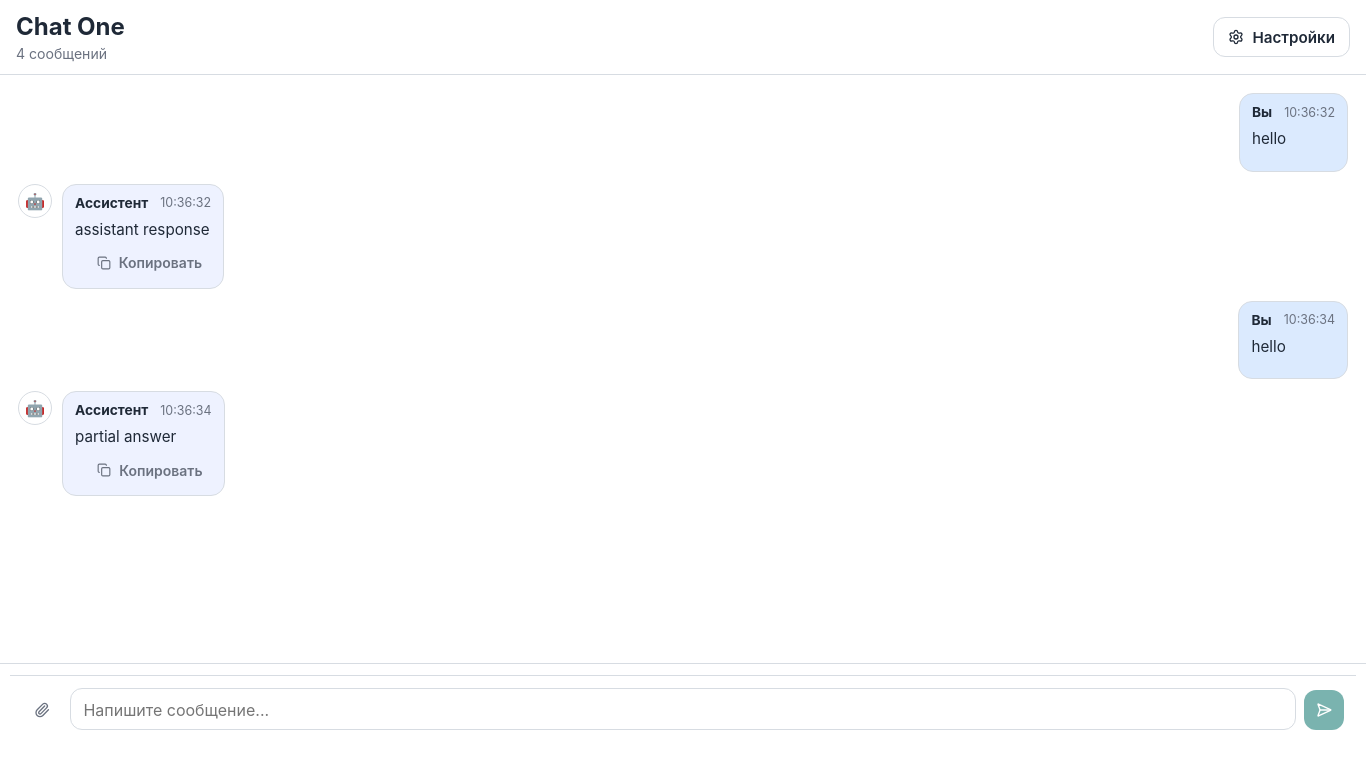
Test: ChatWindow › clears error and succeeds on retry via re-send
In the text box with placeholder "Напишите сообщение...": {"x": 683, "y": 709} [70, 688, 1296, 730], type "first try"
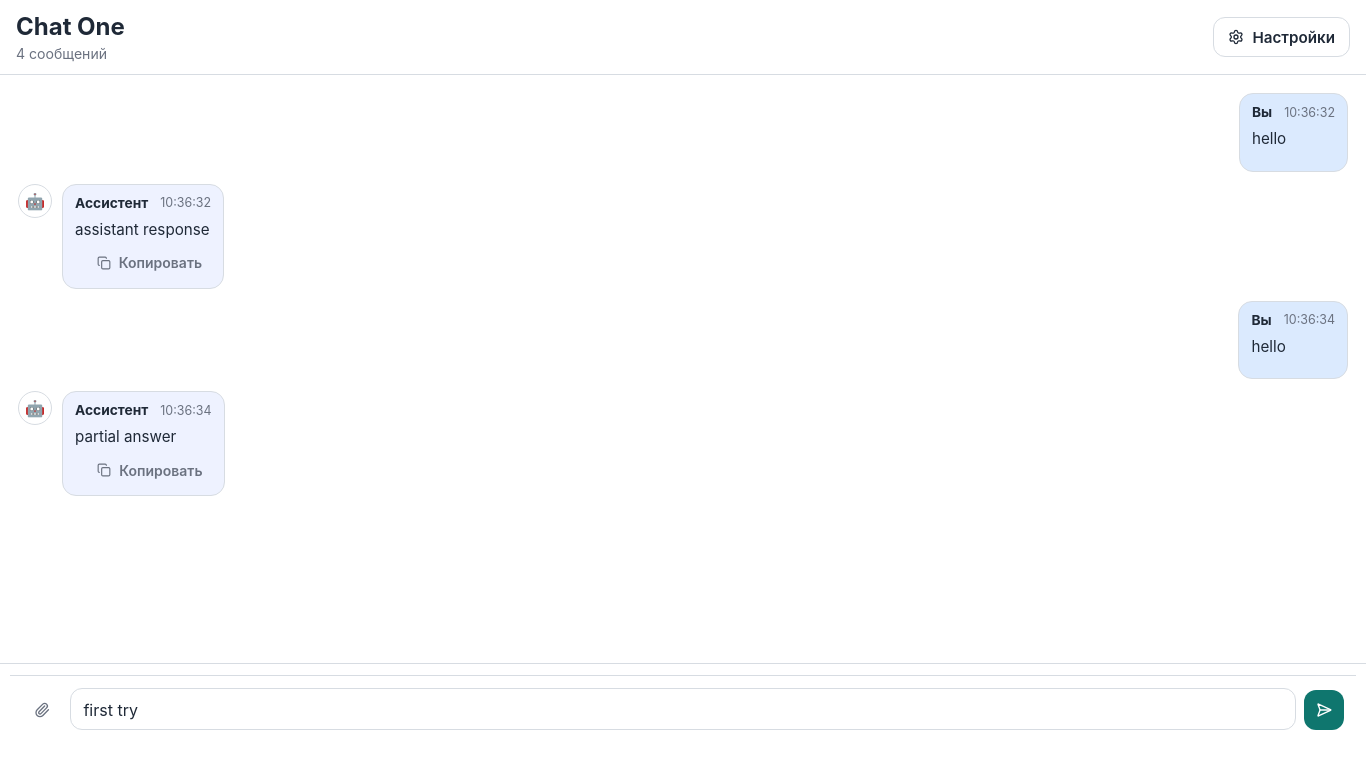
Submit the form with placeholder "Напишите сообщение...", box [10, 675, 1356, 758]
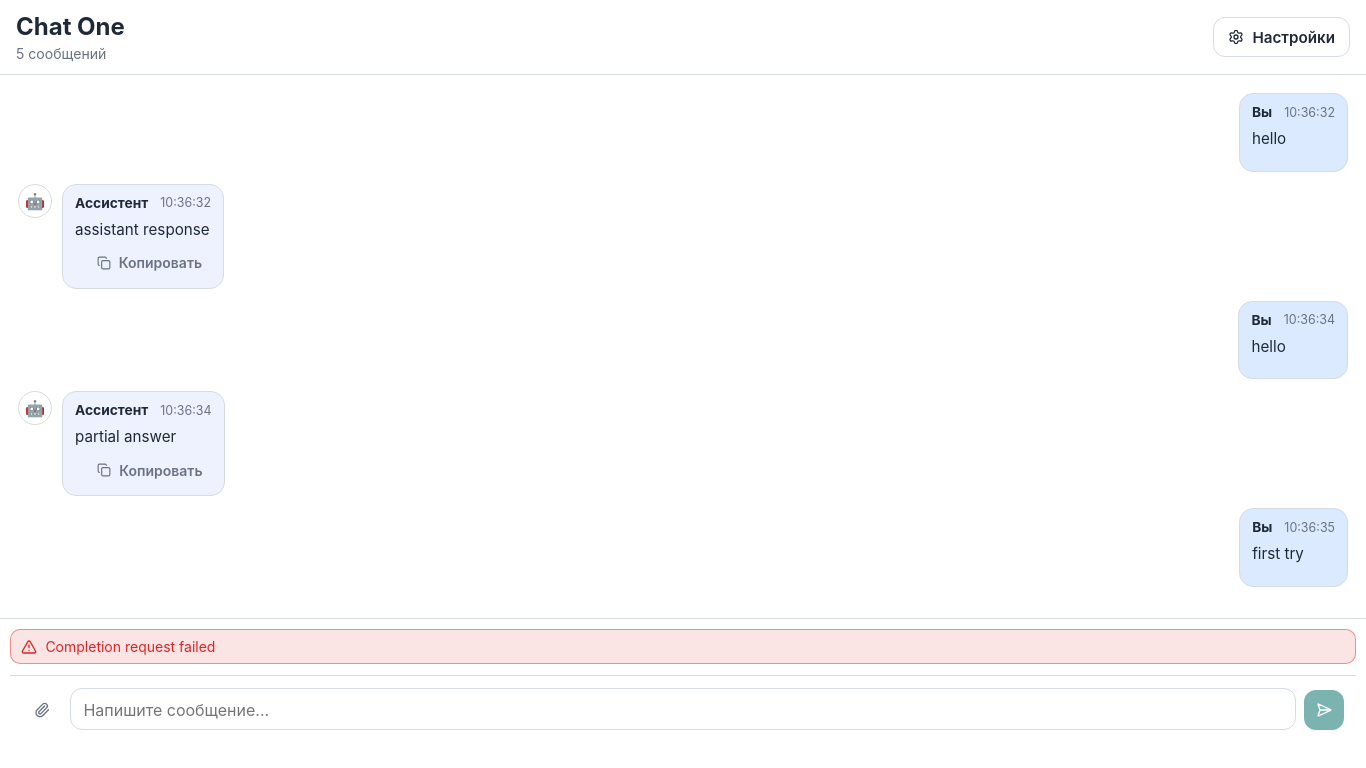
Now the message reads "Completion request failed", box [45, 638, 215, 655]
In the text box with placeholder "Напишите сообщение...": {"x": 683, "y": 709} [70, 688, 1296, 730], type "second try"
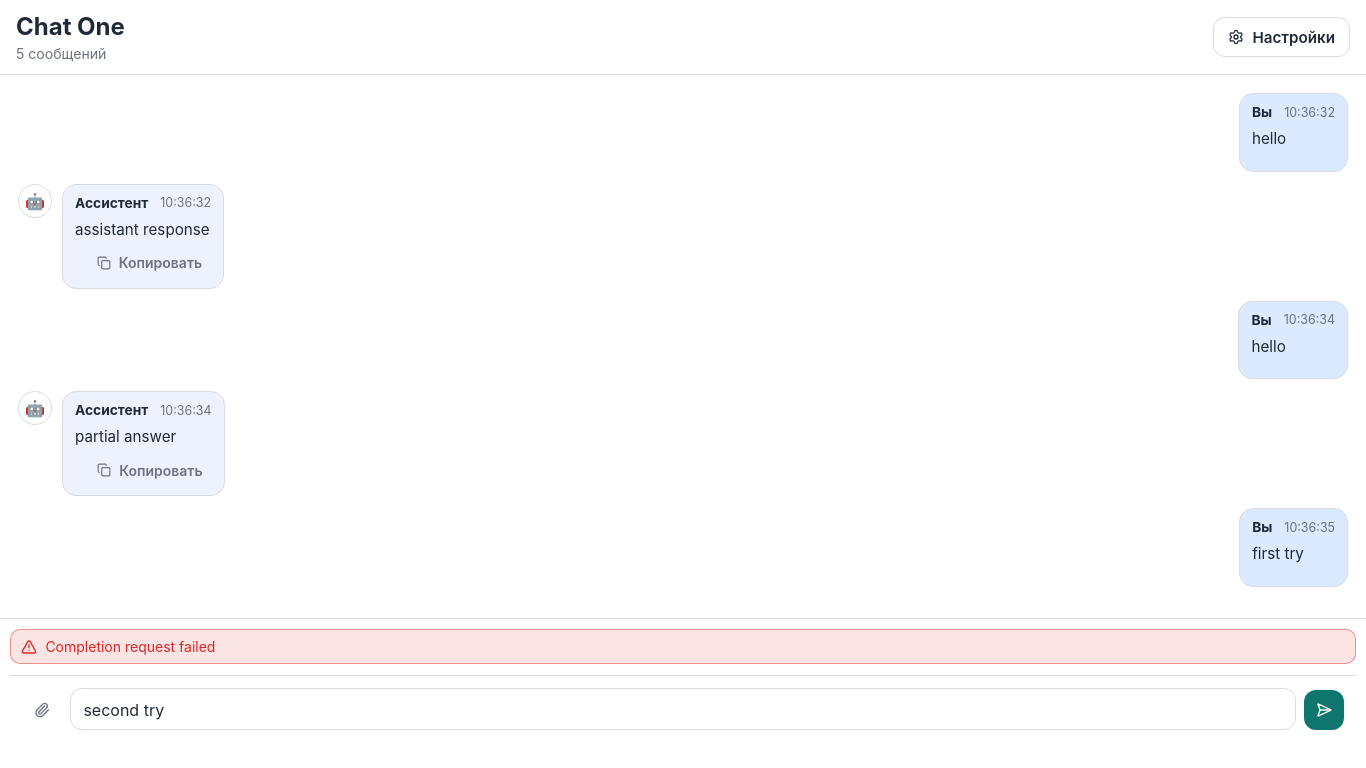
Submit the form with placeholder "Напишите сообщение...", box [10, 675, 1356, 758]
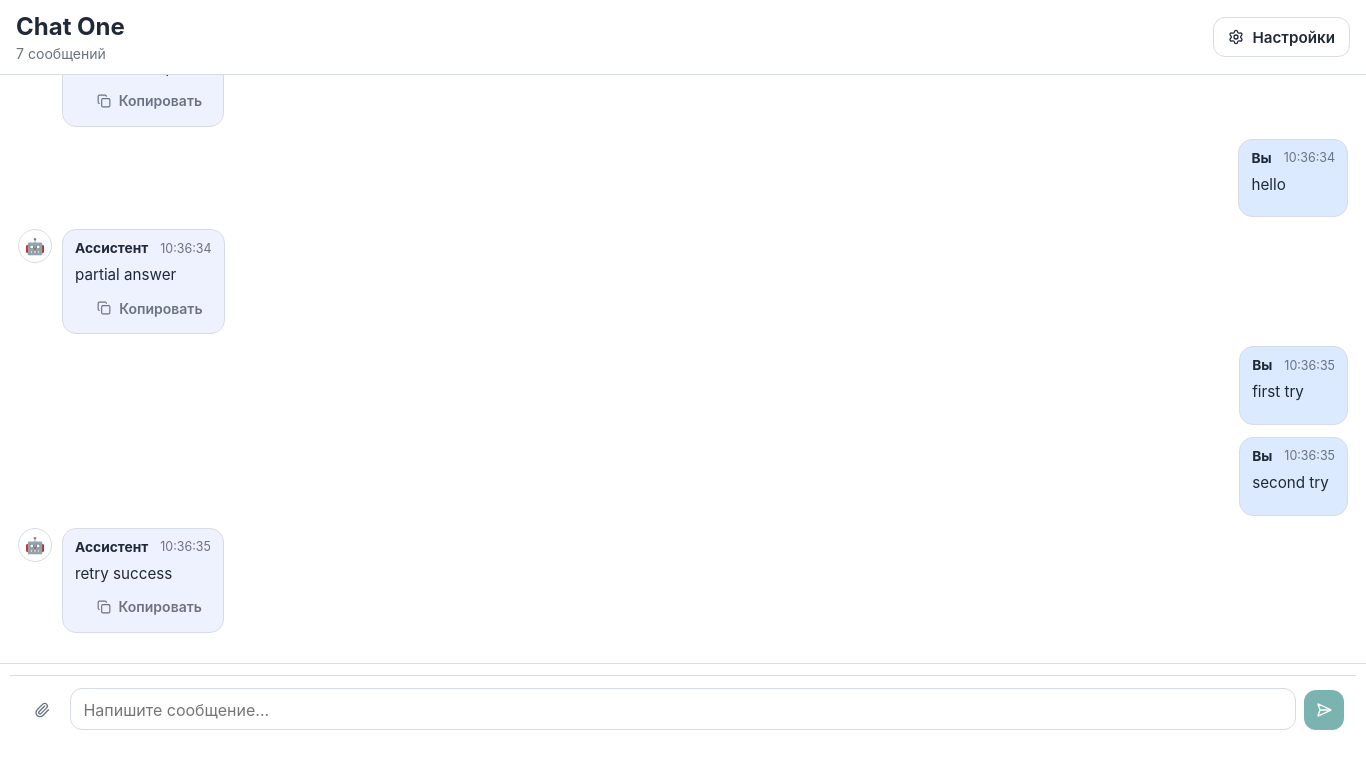
Now the text "retry success" is shown, box [75, 564, 172, 583]
Now the message "Completion request failed" is gone
